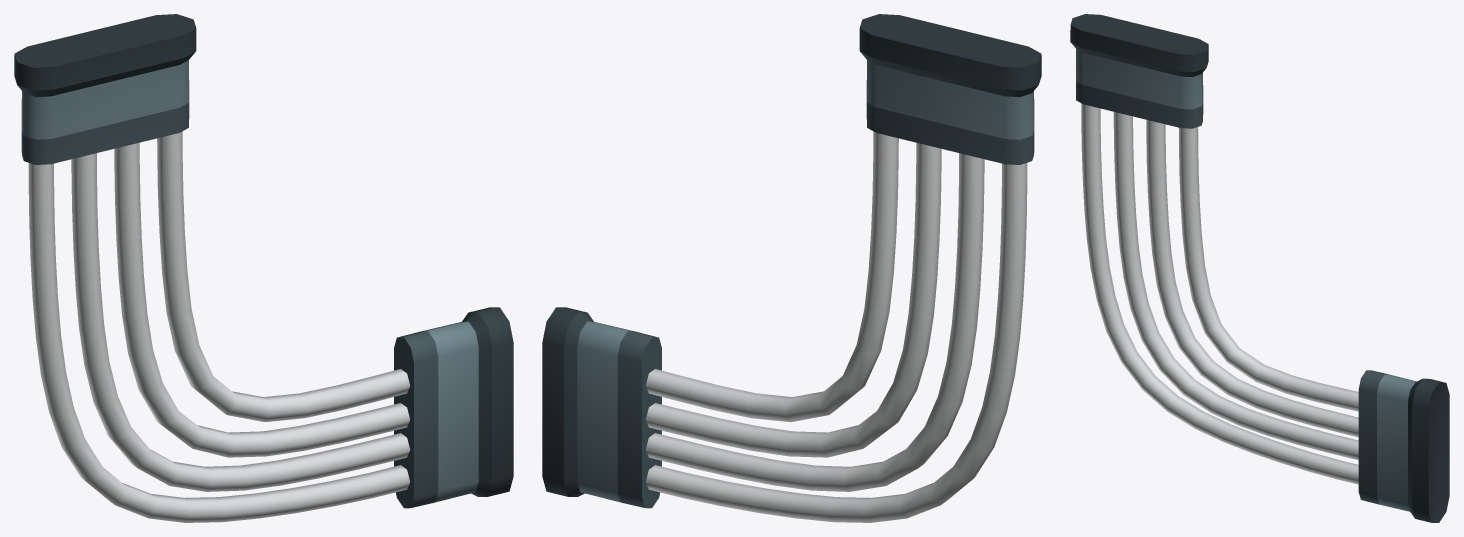
File: Cable_type_B_002.fbx
3 views of the same model, side by side, from view 1: azimuth 30°, elevation 25°; view 2: azimuth 150°, elevation 25°; view 3: azimuth 330°, elevation 25° (orthographic). The views are drawn at different scales.
Visible parts, largest first — view 1: Cable_type_B_002; view 2: Cable_type_B_002; view 3: Cable_type_B_002.
Part boxes in pixels (x1,y1,x2,y2): Cable_type_B_002: (14,14,513,522); Cable_type_B_002: (542,14,1041,522); Cable_type_B_002: (1070,14,1449,522).
Size of the model in its own units: 78.81 by 7.83 by 85.38.
